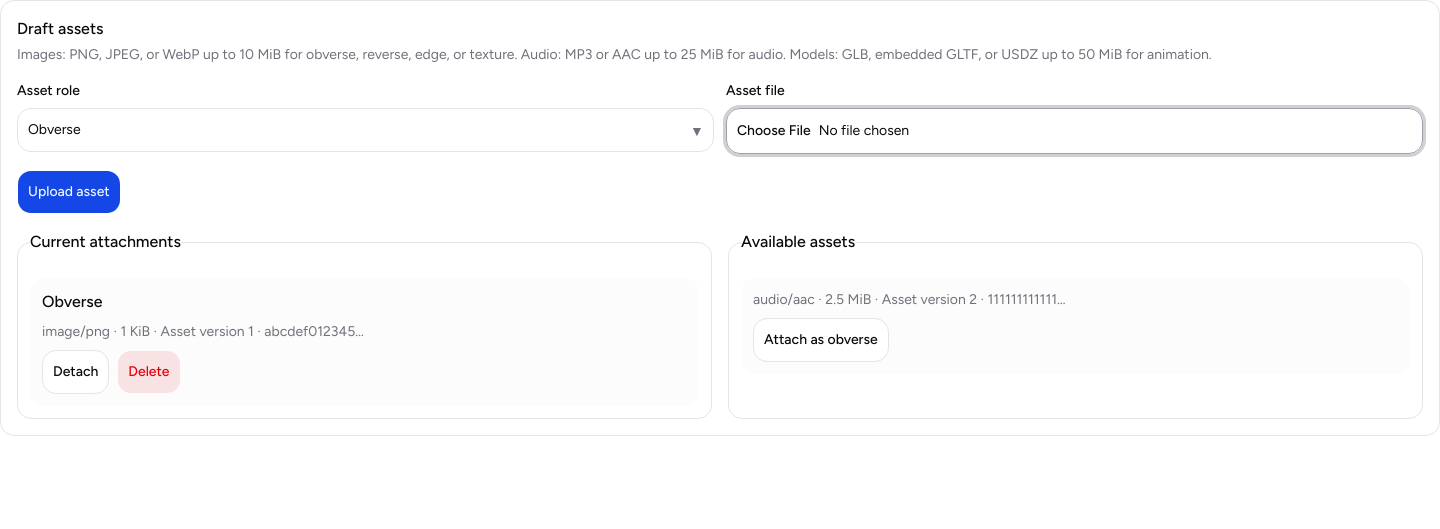
Test: AssetAttachmentsEditor › reuses the upload request id when a lost-response retry keeps the same file and role
Earlier steps of the test are not shown.
Later steps or results of the test are not shown.
Click the button "Upload asset". click: click(69, 192)
box: [17, 170, 121, 214]
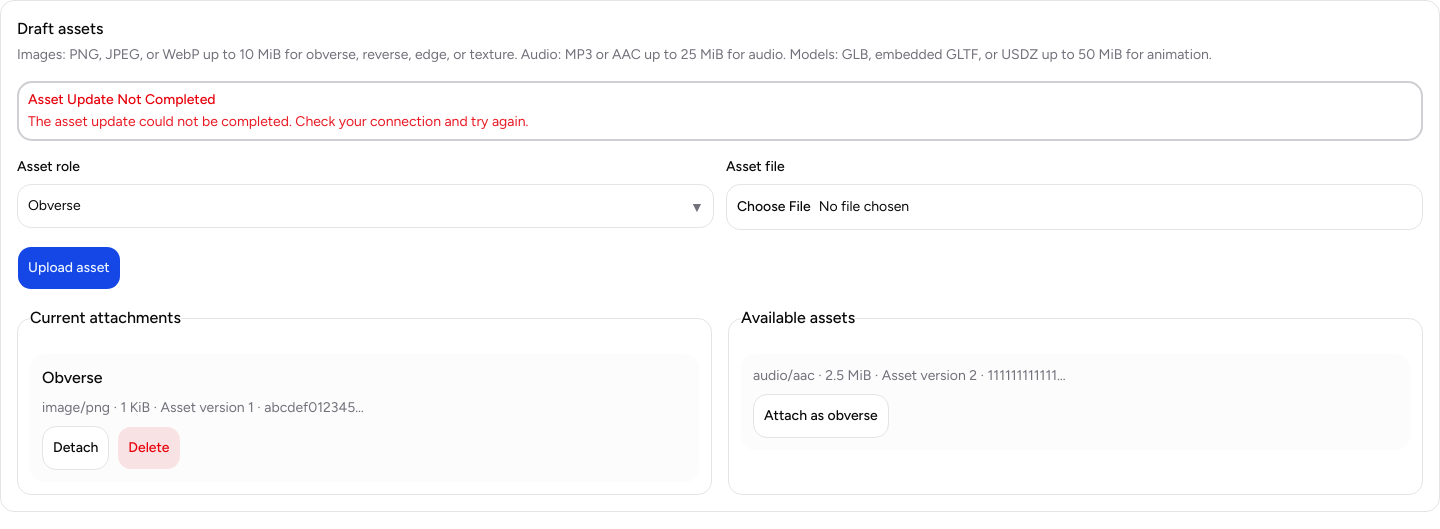
Now the message is shown, box [17, 81, 1423, 141]
